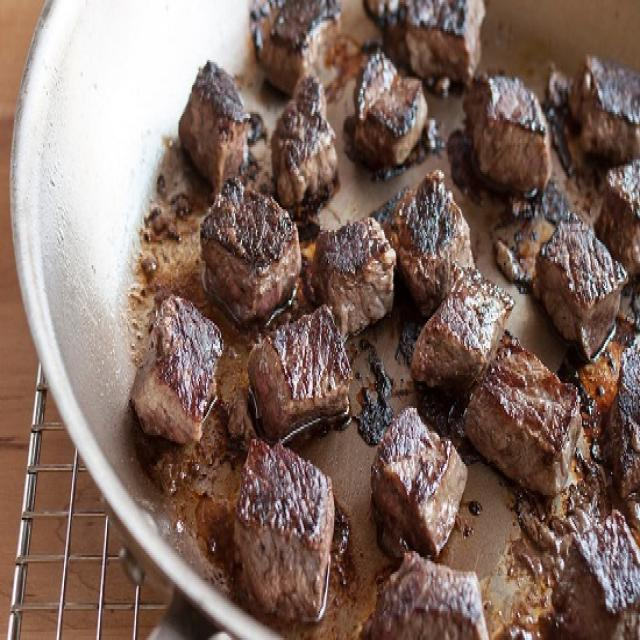Carne: (125, 0, 638, 636)
